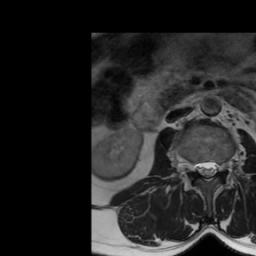CCS_normal: (204, 154, 210, 186)
LFS_stenosis: (217, 156, 225, 177)
LLS_normal: (210, 155, 217, 182)
RFS_normal: (189, 155, 197, 178)
RLS_normal: (197, 156, 204, 179)
